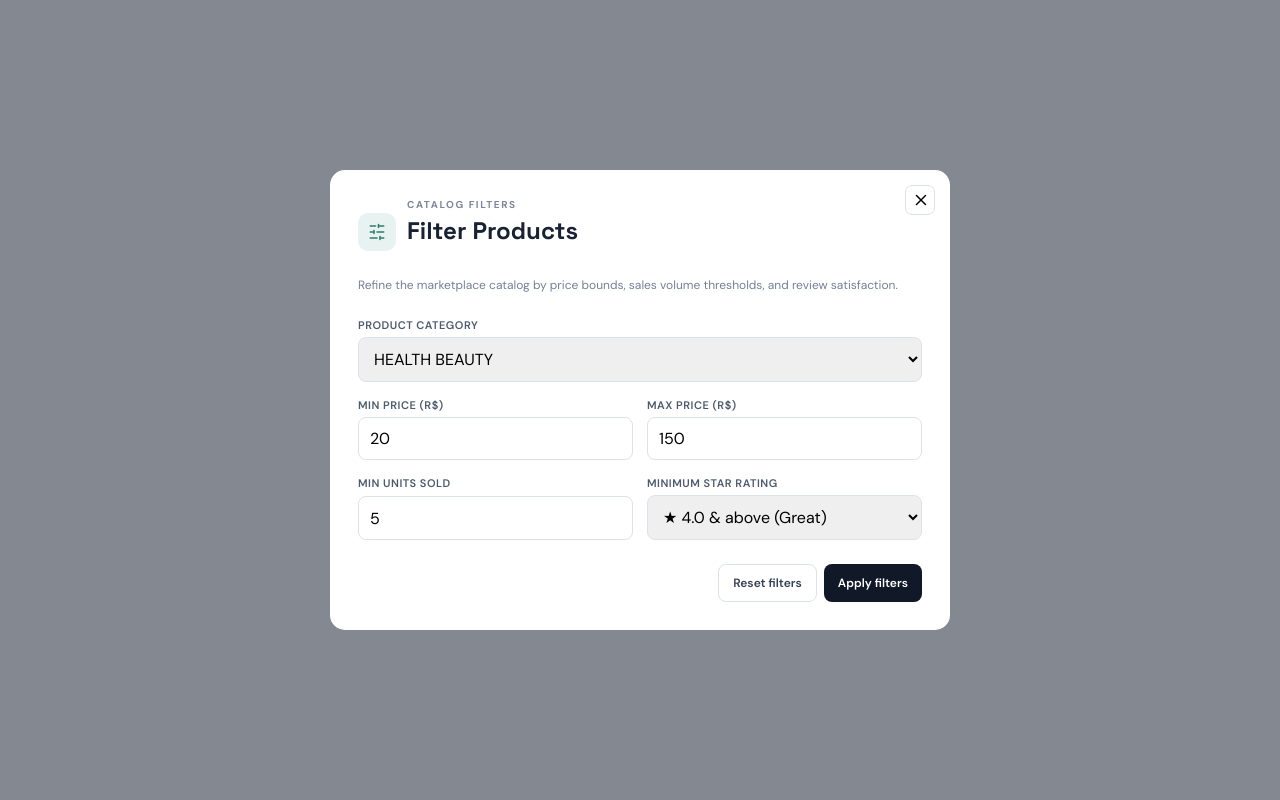
Test: ProductFilterModal Component › resets filter values on clear
This screenshot has width=1280, height=800.
Click the button "Reset filters": {"x": 768, "y": 583} [718, 564, 817, 602]
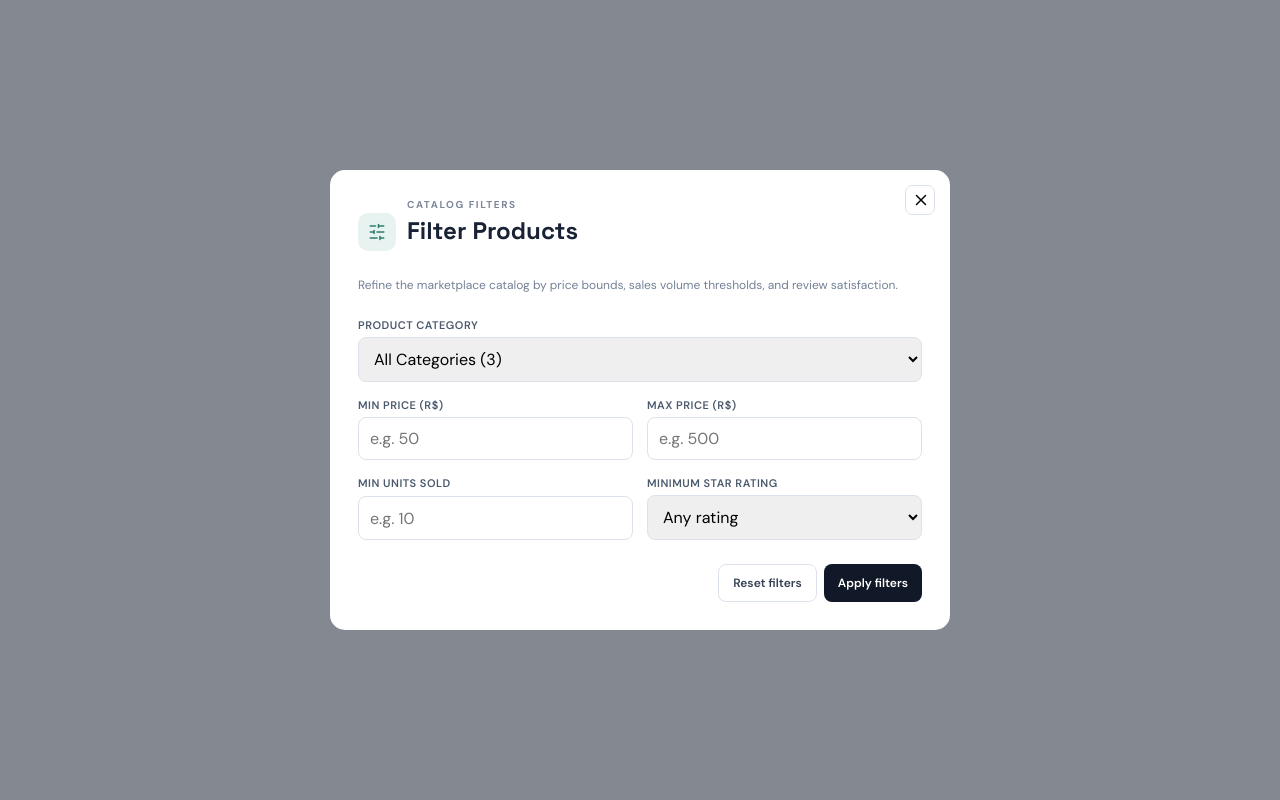
expect the number field with placeholder "e.g. 50" is empty: met, box [358, 417, 633, 460]
